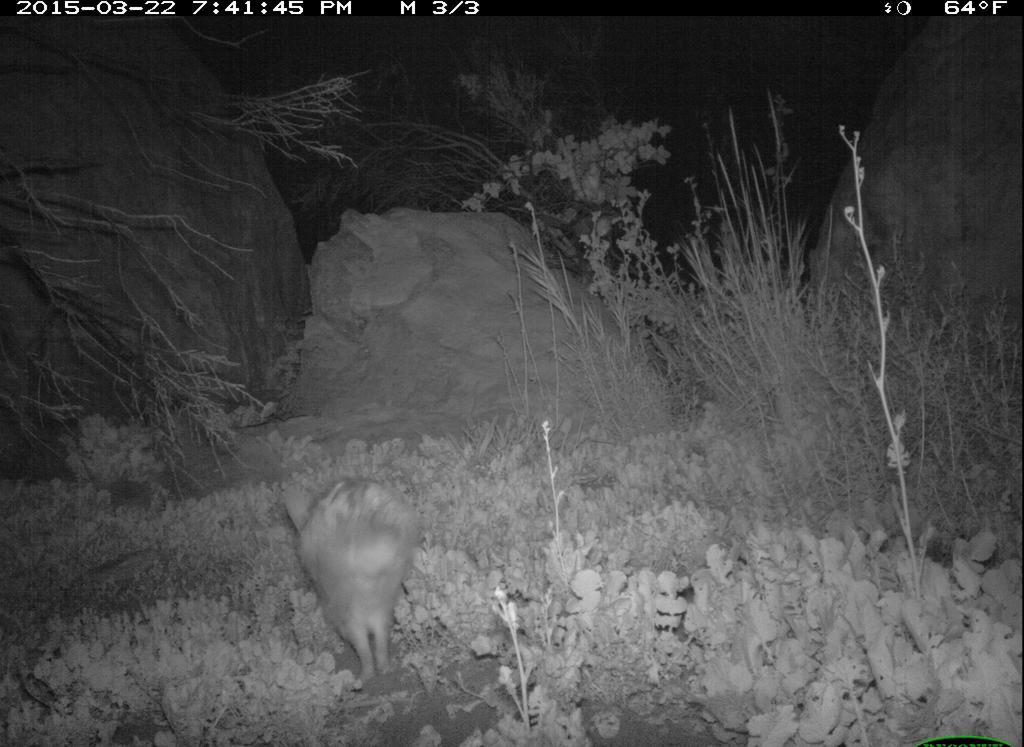rabbit: (273, 470, 423, 689)
